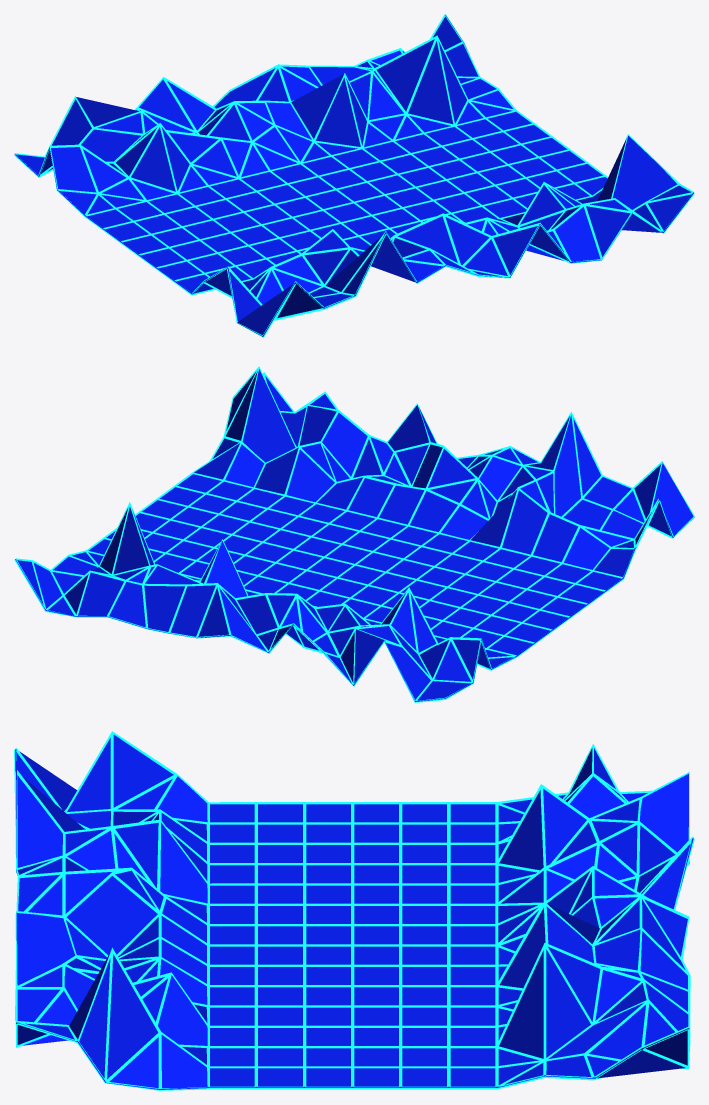
Rendered from Vaporwave.fbx.
The picture shows the model from 3 angles, top to bottom: view 1: azimuth 30°, elevation 25°; view 2: azimuth 150°, elevation 25°; view 3: azimuth 270°, elevation 25°; orthographic projection. The views are drawn at different scales.
Parts seen in each view (by area): view 1: Vaporwave, Vaporwave Wireframe; view 2: Vaporwave, Vaporwave Wireframe; view 3: Vaporwave, Vaporwave Wireframe.
Boxes of the visible parts, x1,y1,x2,y2 form: Vaporwave: (14, 14, 693, 336); Vaporwave Wireframe: (14, 14, 694, 337); Vaporwave: (15, 369, 694, 701); Vaporwave Wireframe: (14, 366, 694, 702); Vaporwave: (15, 735, 693, 1089); Vaporwave Wireframe: (14, 731, 694, 1090).
Size of the model in its own units: 14382 by 14181 by 2858.
